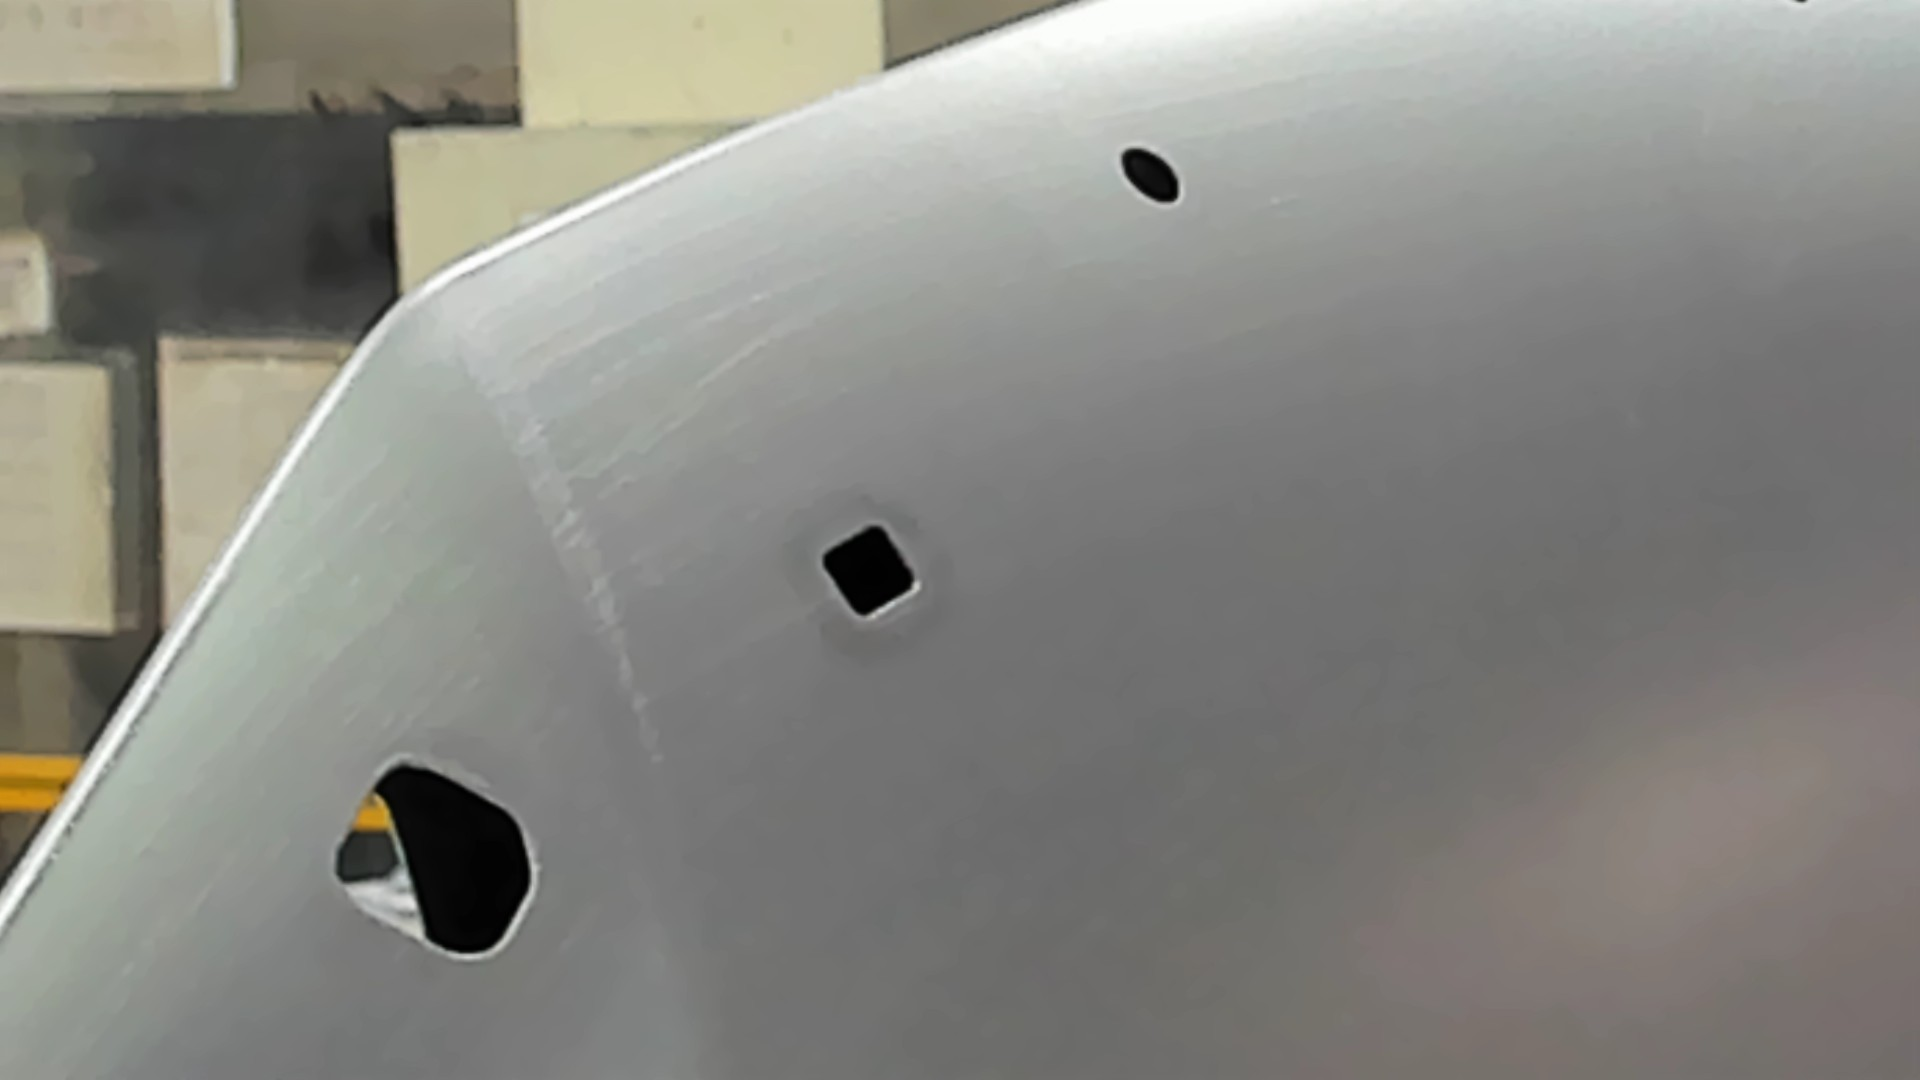chico: (1120, 144, 1183, 208)
grande: (324, 756, 537, 964)
mediano: (815, 518, 924, 622)
